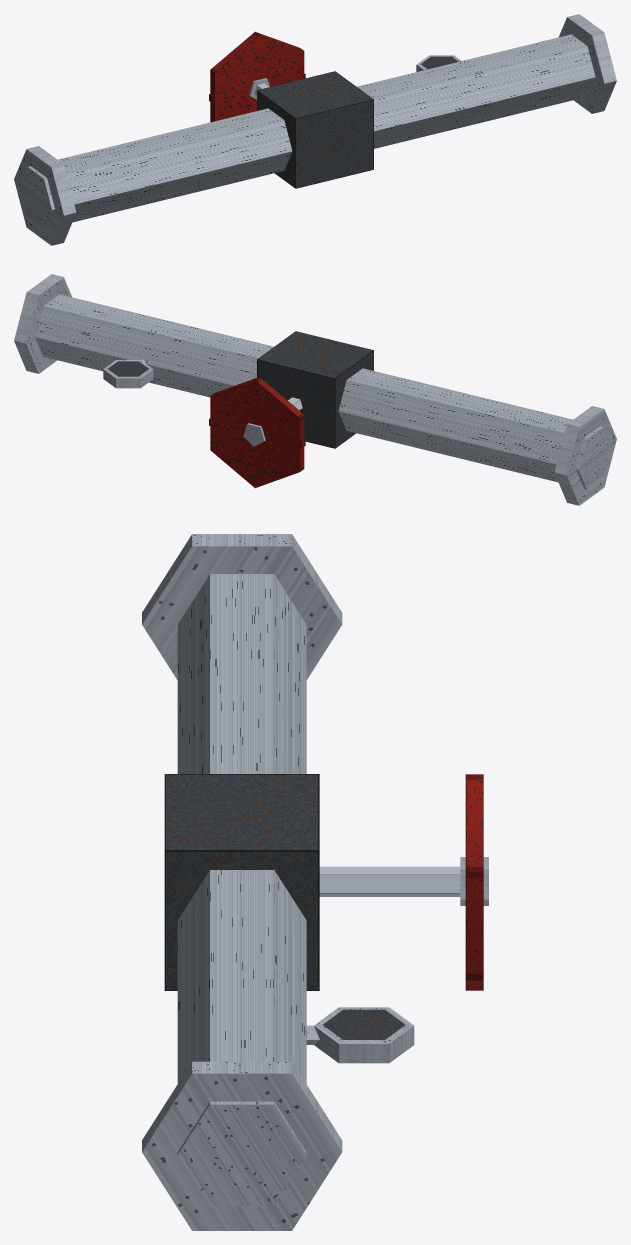
The model's file is pipes_industrial_hazard.glb.
The picture shows the model from 3 angles, top to bottom: view 1: azimuth 30°, elevation 25°; view 2: azimuth 150°, elevation 25°; view 3: azimuth 270°, elevation 25°; orthographic projection. The views are drawn at different scales.
Parts seen in each view (by area): view 1: pipes_industrial_hazard; view 2: pipes_industrial_hazard; view 3: pipes_industrial_hazard.
Boxes of the visible parts, <box> form: pipes_industrial_hazard: <box>14,14,616,245</box>; pipes_industrial_hazard: <box>14,274,616,505</box>; pipes_industrial_hazard: <box>142,534,488,1230</box>.
Size of the model in its own units: 1.8 by 0.333 by 0.4835.
Materials: 6 (6 with a texture image).
